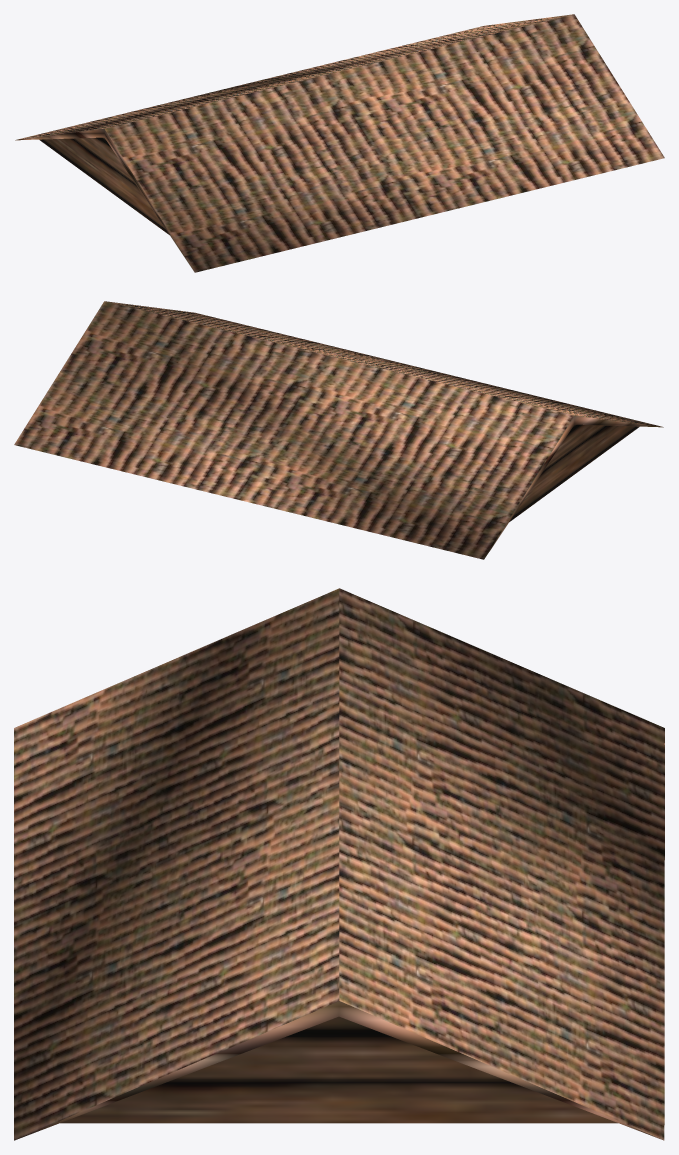
3 views of the same model, one above another, from view 1: azimuth 30°, elevation 25°; view 2: azimuth 150°, elevation 25°; view 3: azimuth 270°, elevation 25° (orthographic). The views are drawn at different scales.
Visible parts, largest first — view 1: 0roof_Cube.003; view 2: 0roof_Cube.003; view 3: 0roof_Cube.003.
Boxes of the visible parts, <box> form: 0roof_Cube.003: <box>15,14,664,272</box>; 0roof_Cube.003: <box>14,301,663,559</box>; 0roof_Cube.003: <box>14,588,664,1140</box>.
Bounding box in the file's own units: 12 × 1.9 × 8.
